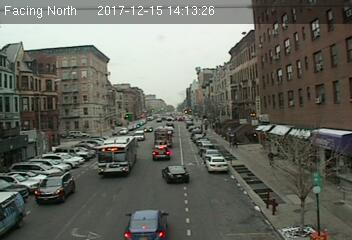bus: (95, 136, 137, 177)
car: (122, 209, 169, 240), (33, 172, 74, 204), (161, 165, 189, 185), (205, 156, 229, 172), (152, 145, 170, 160)
truck: (1, 189, 27, 237), (153, 128, 173, 145)
